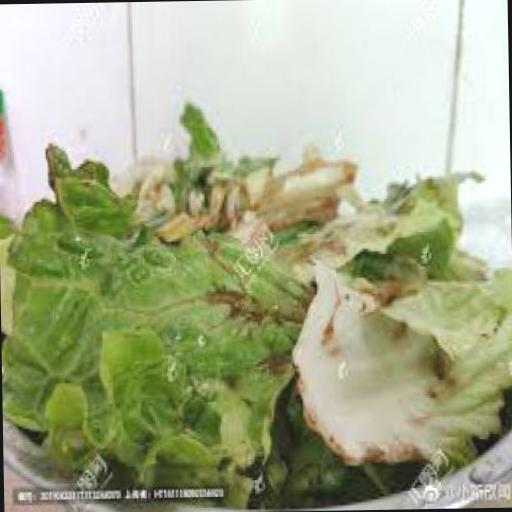biodegradable: (0, 134, 223, 434), (286, 254, 512, 465), (38, 314, 286, 500), (206, 168, 485, 291), (161, 98, 355, 239), (235, 373, 362, 500), (446, 240, 486, 280)
